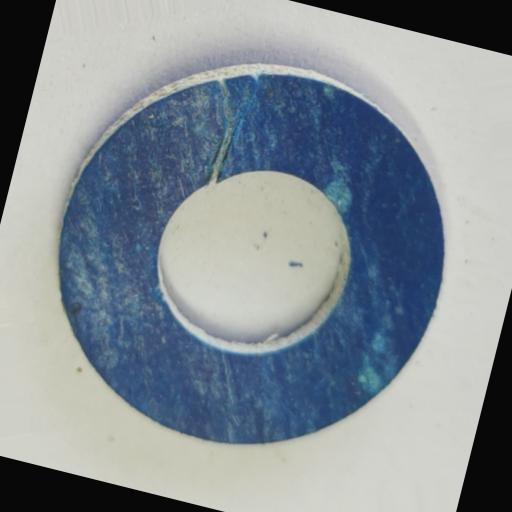defect: (205, 66, 263, 191)
